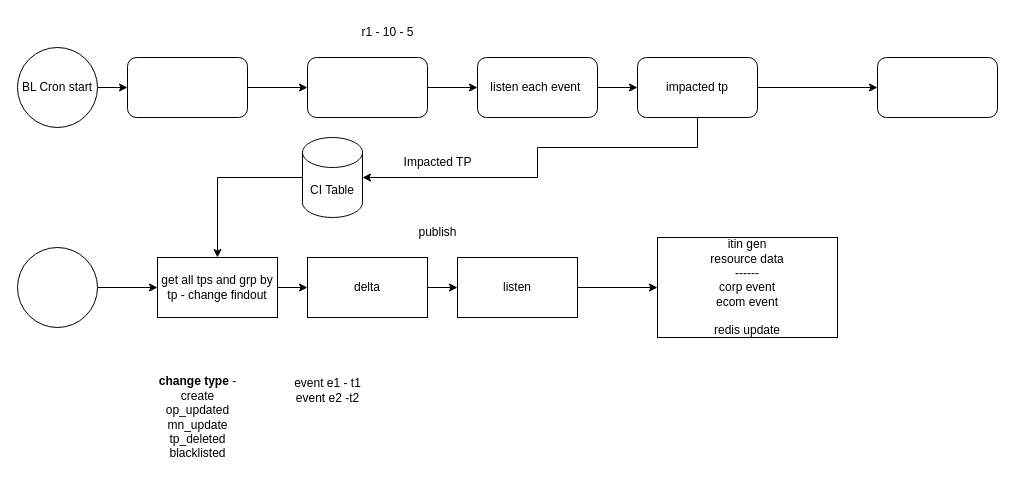
Image size: 1015x484. Some labels were removed from this diagram. Each missing label, with the centre of its shape:
Ci Cron start: the point at 57,287
publish for each ruleid and origin: the point at 367,87
read all BL rule: the point at 187,87
redis update corp event ecom event: the point at 937,87
